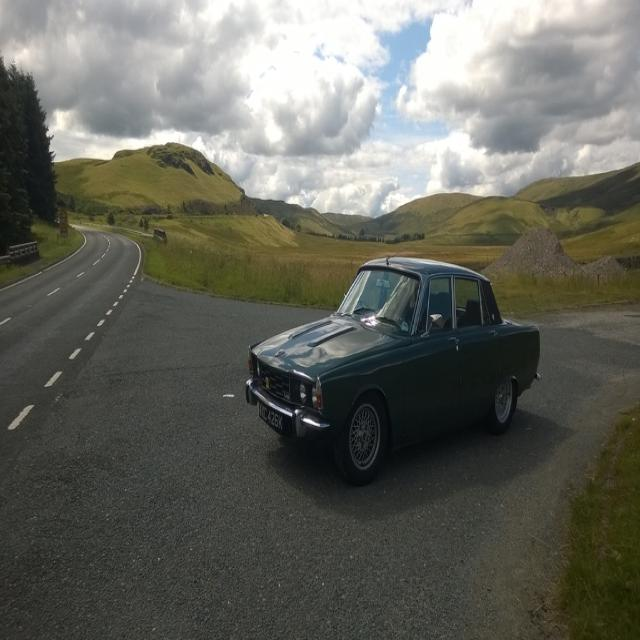car: (238, 244, 536, 479)
